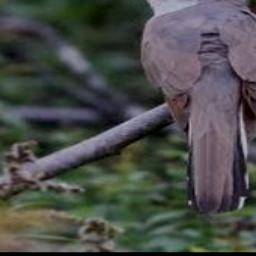Cuckoo: (110, 0, 256, 213)
